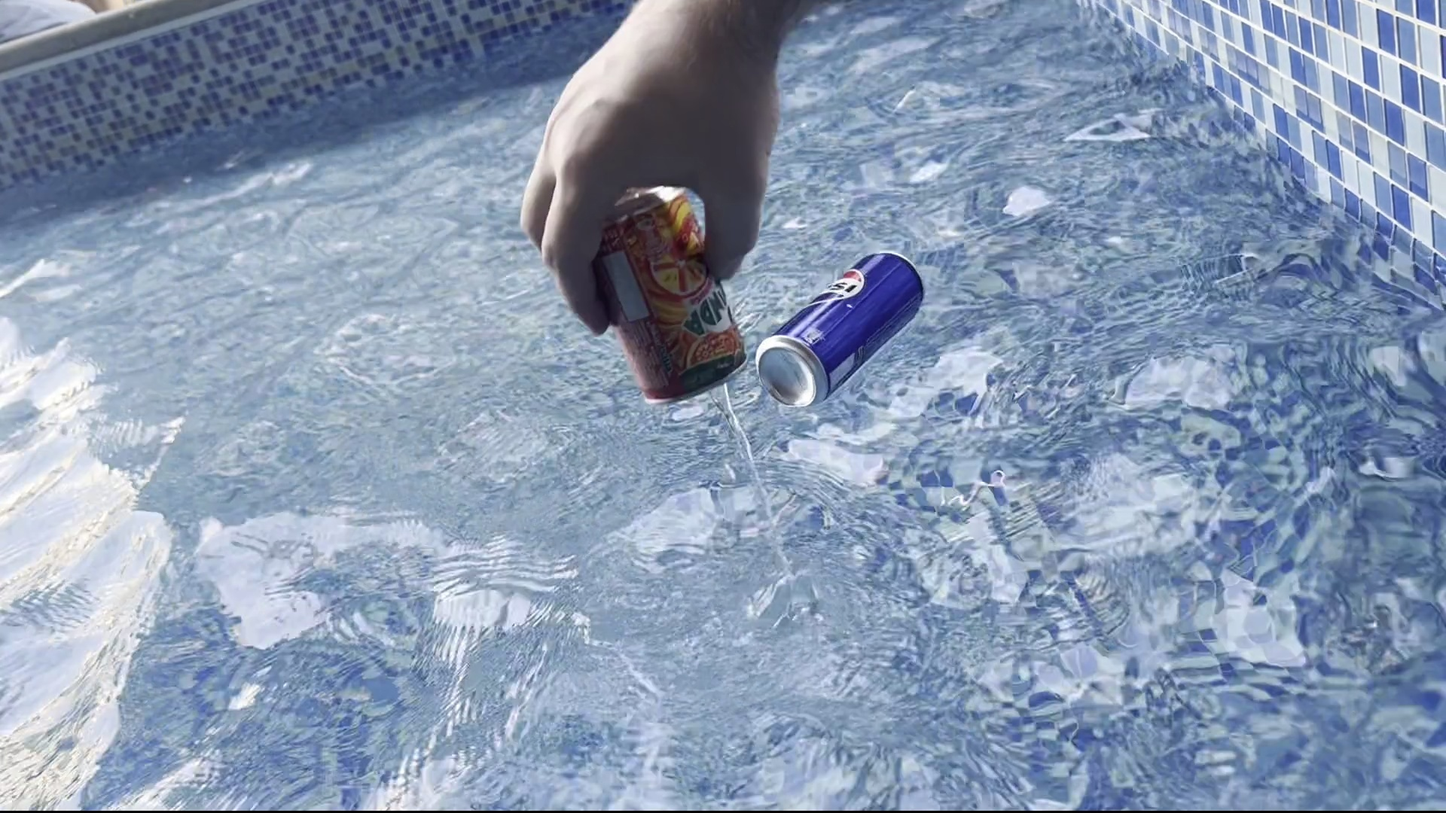debris: (581, 184, 749, 403), (751, 231, 934, 415)
